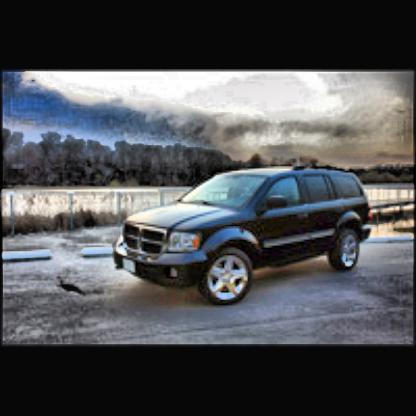Dodge Durango SUV 2007: (93, 129, 390, 345)
